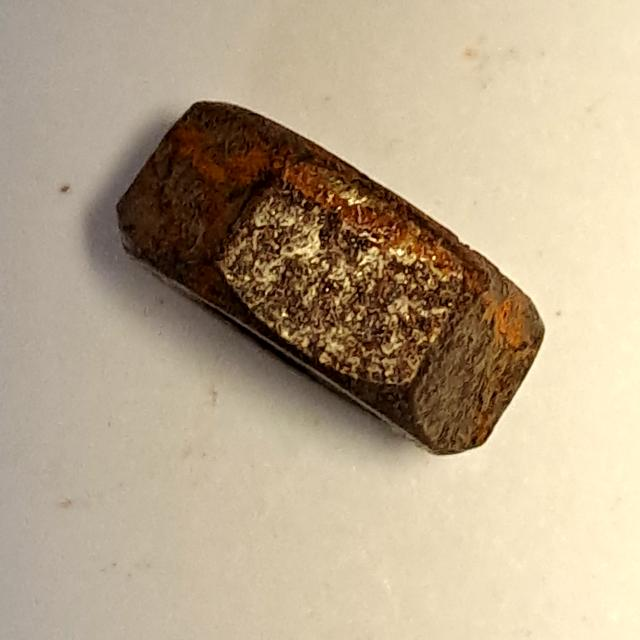Side_Rust: (104, 81, 564, 475)
